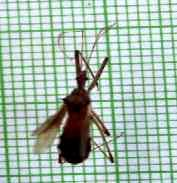Helopeltis-insect: (54, 65, 105, 166)
